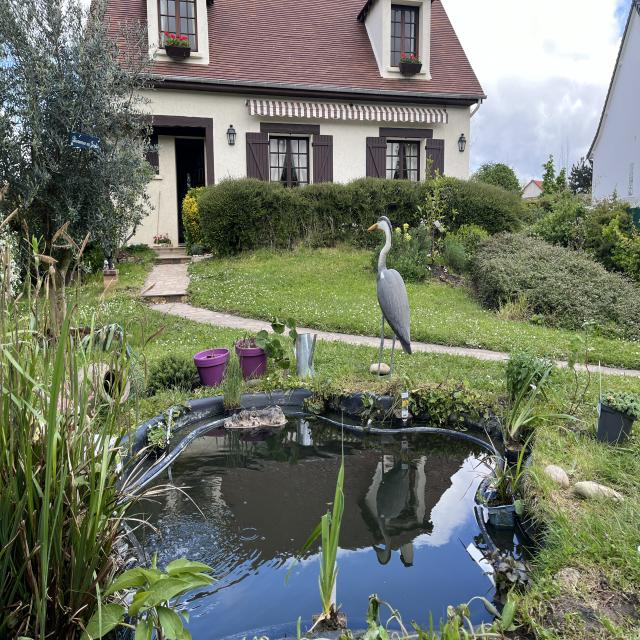Heron: (354, 200, 423, 388)
